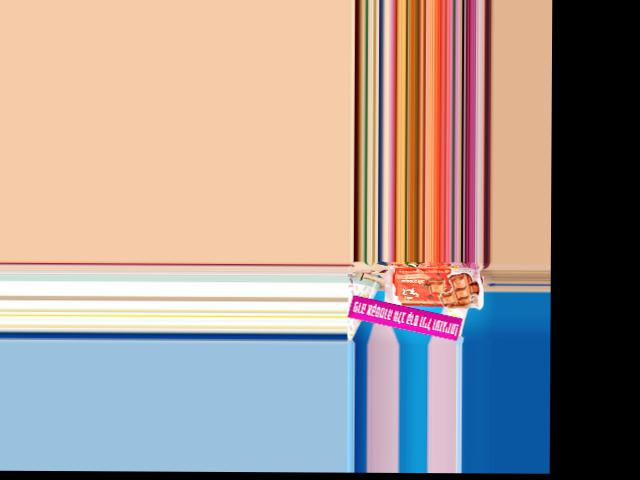chocolate: (382, 265, 486, 310)
